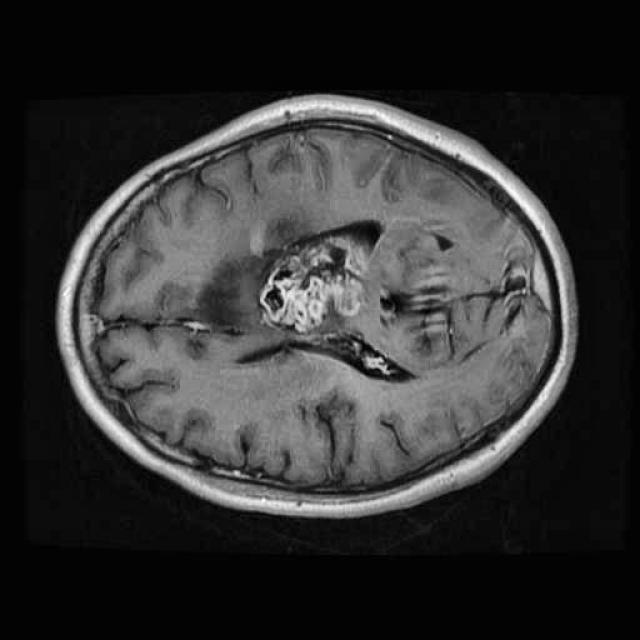Non-Tumor: (181, 222, 386, 348)
